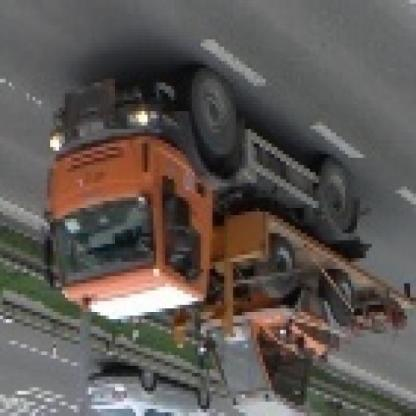truck: (39, 65, 414, 416)
